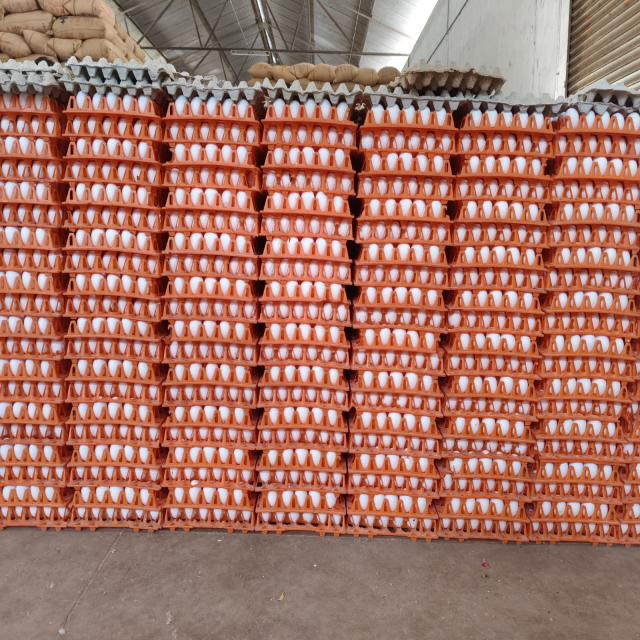egg_tray: (439, 111, 552, 541), (529, 109, 640, 543), (347, 106, 453, 539), (65, 93, 164, 529), (163, 96, 261, 531), (256, 101, 354, 534), (256, 191, 351, 534), (0, 94, 70, 527), (163, 97, 260, 409), (544, 109, 640, 422), (550, 109, 640, 396), (256, 282, 348, 534), (354, 105, 454, 332), (65, 93, 161, 322), (65, 93, 161, 321), (546, 109, 640, 338), (530, 331, 632, 542), (444, 201, 545, 413), (546, 109, 640, 335), (438, 329, 538, 541), (450, 110, 552, 312), (68, 316, 164, 528), (536, 263, 638, 462), (348, 324, 442, 538), (347, 326, 441, 539), (256, 322, 349, 534), (546, 109, 640, 314), (257, 322, 349, 531), (355, 105, 454, 289), (537, 287, 636, 465), (163, 230, 258, 409), (438, 370, 536, 541), (68, 316, 164, 490), (441, 290, 541, 457), (351, 243, 446, 414), (444, 220, 546, 378), (260, 233, 350, 410), (257, 323, 349, 493), (164, 297, 258, 462), (439, 375, 533, 540), (65, 93, 161, 253), (68, 332, 164, 490), (162, 188, 259, 342), (0, 315, 69, 526), (164, 132, 260, 280), (448, 194, 547, 335), (64, 184, 162, 322), (65, 182, 161, 322), (347, 394, 439, 539), (162, 189, 259, 322), (540, 287, 636, 420), (354, 198, 449, 332), (438, 407, 533, 541), (67, 399, 164, 530), (440, 331, 540, 457), (260, 191, 352, 327), (347, 405, 440, 539), (353, 243, 447, 374), (347, 407, 440, 539), (536, 333, 631, 462), (68, 400, 163, 529), (261, 191, 352, 325), (164, 278, 257, 409), (163, 403, 257, 531), (258, 281, 350, 411), (0, 134, 64, 320), (256, 403, 346, 535), (258, 281, 350, 410), (0, 225, 66, 403), (0, 226, 66, 401), (0, 181, 64, 358), (260, 282, 348, 410), (540, 287, 637, 398), (545, 201, 640, 314), (450, 200, 547, 309), (545, 202, 638, 315), (64, 92, 163, 198), (70, 419, 163, 530), (64, 220, 163, 323), (546, 200, 638, 310), (443, 289, 541, 392), (65, 220, 161, 322), (456, 109, 553, 207), (358, 105, 455, 202), (64, 93, 162, 189), (0, 401, 72, 529), (163, 315, 257, 413), (262, 98, 355, 197), (543, 245, 638, 339), (68, 398, 164, 490), (163, 315, 256, 409), (527, 455, 624, 545), (351, 323, 443, 416), (354, 197, 450, 286), (68, 315, 164, 404), (552, 108, 640, 204), (353, 241, 448, 328), (163, 209, 259, 295), (260, 236, 350, 327), (256, 443, 346, 534), (530, 455, 624, 540), (67, 401, 162, 485), (66, 299, 163, 377), (0, 93, 65, 202), (451, 197, 548, 269), (64, 137, 161, 208), (353, 264, 445, 337), (64, 135, 160, 199), (0, 399, 68, 486), (351, 324, 443, 388), (164, 95, 262, 153), (0, 181, 63, 271), (64, 91, 162, 148), (162, 404, 259, 461), (359, 103, 456, 159), (262, 97, 356, 154), (163, 188, 260, 243), (440, 405, 534, 461), (554, 108, 640, 167), (456, 109, 554, 160), (164, 142, 260, 193), (163, 316, 258, 367), (260, 190, 353, 242), (164, 361, 255, 414), (348, 408, 442, 459), (163, 480, 255, 532), (164, 357, 256, 409), (68, 356, 163, 406), (262, 146, 355, 197), (357, 151, 453, 200), (617, 340, 640, 544), (454, 156, 549, 205), (258, 361, 350, 411), (256, 442, 346, 493), (355, 198, 450, 246), (69, 483, 164, 531), (66, 315, 163, 362), (164, 361, 257, 410), (439, 451, 532, 500), (437, 493, 528, 543), (163, 483, 255, 532), (347, 490, 437, 540), (260, 236, 351, 285), (258, 322, 350, 370), (351, 367, 442, 415), (256, 488, 346, 536), (257, 406, 347, 452), (527, 501, 620, 545), (551, 157, 638, 204), (0, 93, 64, 149), (0, 131, 62, 187), (0, 483, 73, 530), (560, 401, 620, 453), (0, 314, 64, 362), (76, 452, 159, 482), (267, 407, 337, 441), (184, 447, 254, 478), (460, 334, 521, 369), (168, 489, 220, 526), (276, 406, 333, 438), (268, 192, 335, 216), (206, 98, 239, 137), (616, 497, 640, 545), (617, 499, 640, 545), (538, 502, 566, 536), (616, 505, 640, 542), (570, 522, 616, 541), (165, 469, 227, 482), (591, 423, 619, 441), (452, 269, 480, 287), (355, 252, 376, 275), (74, 402, 110, 415), (241, 100, 258, 126), (586, 503, 610, 521), (625, 462, 640, 488), (170, 97, 189, 117), (195, 341, 224, 353), (111, 402, 145, 412), (231, 338, 255, 351), (192, 283, 212, 297), (228, 474, 250, 485), (488, 274, 510, 285), (548, 382, 563, 398), (609, 321, 629, 332), (164, 471, 177, 486), (563, 298, 582, 308), (190, 276, 209, 286), (322, 301, 335, 315), (488, 297, 502, 310), (199, 212, 214, 224), (117, 286, 137, 295), (113, 263, 128, 275), (564, 322, 584, 331), (338, 198, 348, 214), (623, 399, 632, 415), (240, 331, 253, 342), (266, 407, 277, 420), (260, 476, 280, 483), (200, 102, 207, 122), (581, 433, 604, 439), (563, 323, 582, 330), (3, 112, 15, 123), (34, 211, 46, 222), (462, 253, 474, 262), (261, 349, 273, 358), (166, 116, 173, 131), (138, 285, 148, 295), (515, 274, 524, 285), (601, 398, 612, 407), (560, 523, 567, 536), (268, 300, 279, 308), (21, 211, 32, 219), (312, 478, 322, 486), (109, 327, 122, 333), (445, 354, 452, 365), (192, 99, 199, 110), (86, 298, 94, 307), (356, 262, 362, 274), (144, 270, 156, 276), (602, 301, 610, 310), (308, 407, 320, 413), (554, 438, 564, 445), (583, 162, 589, 173), (509, 206, 522, 211), (124, 365, 132, 373), (486, 350, 494, 358), (618, 466, 626, 474), (76, 190, 83, 199), (183, 342, 192, 349), (268, 261, 277, 268), (327, 284, 339, 289), (635, 465, 640, 477), (591, 303, 601, 309), (214, 326, 225, 331), (176, 453, 182, 462), (94, 267, 103, 273), (190, 321, 208, 324), (188, 301, 198, 306), (584, 530, 594, 535), (109, 215, 116, 222), (625, 484, 632, 491), (607, 477, 614, 484), (5, 202, 13, 208), (108, 193, 114, 201), (567, 378, 575, 384), (446, 397, 451, 406), (317, 212, 322, 221), (191, 210, 197, 217), (5, 123, 13, 128), (220, 300, 228, 305), (238, 120, 246, 125), (608, 465, 616, 470), (543, 322, 549, 328), (222, 457, 228, 463), (204, 471, 210, 477), (150, 407, 156, 413), (456, 345, 465, 349), (384, 221, 391, 226), (170, 461, 175, 468), (615, 436, 622, 441), (408, 374, 415, 379), (389, 372, 396, 377), (507, 301, 512, 308), (55, 118, 59, 126), (631, 249, 635, 257), (408, 485, 416, 489), (120, 219, 126, 224), (32, 116, 38, 121), (178, 287, 183, 293), (419, 443, 424, 449), (290, 477, 297, 481), (582, 433, 589, 437), (357, 219, 360, 228), (300, 478, 305, 483), (512, 222, 517, 227), (629, 230, 634, 235), (205, 463, 210, 468), (193, 301, 198, 306), (88, 285, 93, 290), (110, 216, 115, 221), (264, 460, 268, 466), (153, 302, 159, 306), (454, 233, 460, 237), (194, 299, 198, 305), (585, 245, 589, 251), (102, 209, 108, 213), (527, 253, 530, 261), (588, 508, 592, 514), (221, 322, 229, 325), (624, 455, 628, 461), (251, 204, 254, 211), (16, 202, 20, 207), (398, 482, 402, 487), (273, 287, 277, 292), (608, 433, 613, 437), (593, 492, 598, 496), (472, 383, 476, 388), (629, 445, 633, 450), (78, 320, 82, 325), (478, 407, 483, 411), (78, 287, 84, 290), (108, 319, 114, 322), (264, 467, 268, 471), (473, 346, 477, 350), (427, 486, 431, 490), (188, 505, 192, 509), (214, 475, 218, 479), (585, 485, 589, 489), (373, 251, 377, 255), (567, 514, 571, 518), (98, 455, 102, 459), (555, 382, 559, 386), (282, 260, 287, 263), (204, 455, 207, 460), (573, 433, 578, 436), (154, 418, 159, 421), (624, 448, 627, 453), (34, 204, 38, 207), (140, 340, 146, 342), (358, 278, 361, 282), (210, 467, 212, 473), (200, 460, 204, 463), (252, 129, 256, 132), (198, 467, 202, 470), (401, 301, 404, 305), (124, 198, 128, 201), (477, 379, 481, 382), (534, 280, 537, 284), (106, 422, 112, 424), (559, 513, 563, 516), (210, 238, 214, 241), (148, 289, 151, 293), (246, 331, 250, 334), (606, 487, 610, 490), (8, 194, 11, 198), (119, 340, 122, 344), (27, 101, 29, 106), (273, 283, 278, 285), (154, 212, 156, 217), (230, 326, 232, 331), (236, 323, 241, 325), (211, 322, 216, 324), (294, 264, 296, 269), (35, 110, 38, 113), (41, 103, 44, 106), (78, 194, 81, 197), (205, 300, 208, 303), (583, 407, 586, 410), (158, 416, 161, 419), (524, 348, 527, 351), (207, 321, 210, 324), (608, 500, 611, 503), (247, 290, 250, 293), (124, 330, 127, 333), (492, 407, 495, 410), (495, 407, 498, 410), (504, 203, 506, 207), (398, 203, 402, 205), (437, 266, 441, 268), (168, 458, 170, 462), (170, 452, 172, 456), (172, 355, 176, 357), (626, 350, 628, 354), (191, 224, 193, 228), (530, 294, 532, 298), (453, 338, 457, 340), (176, 321, 180, 323), (550, 327, 554, 329), (79, 219, 82, 221), (25, 113, 28, 115), (15, 97, 17, 100), (266, 292, 269, 294), (454, 355, 456, 358), (166, 467, 168, 470), (213, 301, 216, 303), (80, 150, 82, 153), (178, 137, 181, 139), (385, 301, 388, 303), (361, 300, 364, 302), (579, 287, 582, 289), (205, 301, 208, 303), (498, 356, 501, 358), (476, 389, 479, 391), (510, 347, 512, 350), (481, 340, 483, 343), (497, 181, 500, 183), (203, 326, 205, 329), (180, 321, 183, 323), (638, 141, 640, 144), (298, 451, 301, 453), (265, 412, 267, 415), (352, 365, 355, 367), (570, 525, 573, 527), (610, 470, 611, 476), (622, 420, 624, 423), (556, 366, 558, 369), (242, 282, 244, 285), (36, 212, 39, 214), (23, 195, 26, 197), (68, 299, 69, 304), (338, 484, 340, 486), (149, 304, 151, 306), (41, 116, 43, 118), (45, 111, 49, 112), (31, 105, 33, 107), (512, 365, 514, 367), (478, 349, 480, 351), (627, 251, 629, 253), (230, 302, 234, 303), (543, 345, 545, 347), (390, 321, 392, 323), (571, 388, 573, 390), (474, 163, 476, 165), (330, 505, 332, 507), (568, 433, 570, 435), (184, 211, 188, 212), (452, 407, 454, 409), (599, 540, 603, 541), (551, 516, 553, 518), (573, 514, 575, 516), (132, 269, 134, 271), (143, 267, 144, 271), (296, 260, 298, 262), (284, 495, 286, 497), (426, 310, 428, 312), (494, 399, 495, 403), (618, 460, 620, 462), (574, 366, 576, 368), (244, 295, 246, 297), (631, 312, 633, 314), (475, 402, 477, 404), (134, 219, 135, 222), (531, 341, 534, 342), (480, 310, 481, 313), (434, 276, 437, 277), (181, 125, 184, 126), (616, 413, 619, 414), (527, 385, 528, 388), (480, 344, 481, 347), (252, 470, 253, 473), (594, 540, 597, 541), (103, 209, 104, 212), (296, 475, 297, 478), (248, 282, 251, 283), (143, 329, 144, 332), (488, 225, 490, 226), (31, 99, 32, 101), (571, 171, 573, 172), (283, 267, 284, 269), (522, 309, 524, 310), (622, 249, 624, 250), (413, 252, 414, 254), (225, 511, 226, 513), (231, 506, 232, 508), (216, 498, 218, 499), (241, 460, 242, 462), (192, 314, 194, 315), (595, 451, 596, 453), (571, 435, 573, 436), (140, 202, 142, 203), (111, 189, 113, 190), (142, 422, 144, 423), (129, 420, 131, 421), (111, 210, 112, 212), (522, 385, 524, 386), (493, 389, 495, 390), (464, 338, 466, 339), (562, 531, 564, 532), (205, 241, 206, 243), (272, 251, 274, 252), (156, 212, 157, 214), (334, 418, 335, 420), (271, 411, 273, 412), (565, 323, 566, 325), (600, 323, 601, 325), (342, 340, 344, 341), (578, 449, 579, 451), (554, 380, 555, 382), (343, 434, 344, 436), (81, 331, 83, 332), (465, 434, 466, 436), (76, 496, 77, 497), (520, 227, 521, 228), (518, 226, 519, 227), (531, 358, 532, 359), (525, 358, 526, 359), (545, 331, 546, 332), (229, 460, 230, 461), (347, 303, 348, 304), (265, 296, 266, 297), (245, 518, 246, 519), (176, 467, 177, 468), (245, 465, 246, 466), (207, 125, 208, 126), (280, 314, 281, 315), (609, 316, 610, 317), (166, 471, 167, 472), (271, 505, 272, 506), (196, 192, 197, 193), (154, 427, 155, 428), (616, 305, 617, 306), (276, 432, 277, 433), (307, 207, 308, 208), (627, 445, 628, 446), (625, 434, 626, 435), (185, 278, 186, 279), (261, 429, 262, 430), (462, 307, 463, 308), (80, 331, 81, 332), (461, 434, 462, 435), (529, 418, 530, 419), (156, 330, 156, 330), (317, 403, 319, 403), (54, 127, 54, 128), (534, 342, 534, 347), (332, 274, 332, 274), (314, 252, 316, 252), (501, 309, 501, 310), (590, 448, 590, 449), (592, 447, 592, 447), (190, 454, 190, 454), (154, 471, 154, 472), (268, 285, 268, 286), (541, 412, 541, 415), (634, 270, 635, 270), (402, 250, 403, 250), (421, 247, 421, 248), (495, 403, 497, 403), (223, 518, 223, 519), (208, 493, 208, 495), (170, 470, 170, 470), (212, 458, 212, 459), (172, 458, 172, 459), (208, 129, 208, 130), (181, 129, 181, 130), (189, 121, 190, 121), (250, 358, 250, 359), (41, 187, 41, 188), (391, 294, 392, 294), (634, 278, 634, 278), (590, 449, 590, 450), (70, 350, 70, 350), (392, 374, 392, 374), (196, 197, 196, 199), (77, 356, 79, 356), (155, 205, 157, 205), (143, 427, 143, 428), (145, 212, 146, 212), (524, 383, 526, 383), (550, 322, 550, 323), (584, 287, 587, 287), (492, 391, 492, 392), (130, 418, 130, 419), (514, 345, 514, 346), (180, 245, 181, 245), (208, 238, 208, 240), (242, 328, 244, 328), (634, 161, 634, 161), (592, 303, 596, 303), (595, 325, 597, 325), (308, 471, 308, 472), (388, 314, 388, 314), (632, 321, 632, 321), (92, 462, 92, 463), (534, 523, 536, 523), (574, 509, 574, 510), (596, 494, 597, 494), (622, 445, 624, 445), (545, 443, 546, 443), (556, 372, 557, 372), (343, 438, 343, 439), (334, 419, 335, 419), (524, 294, 526, 294), (632, 312, 632, 313)
